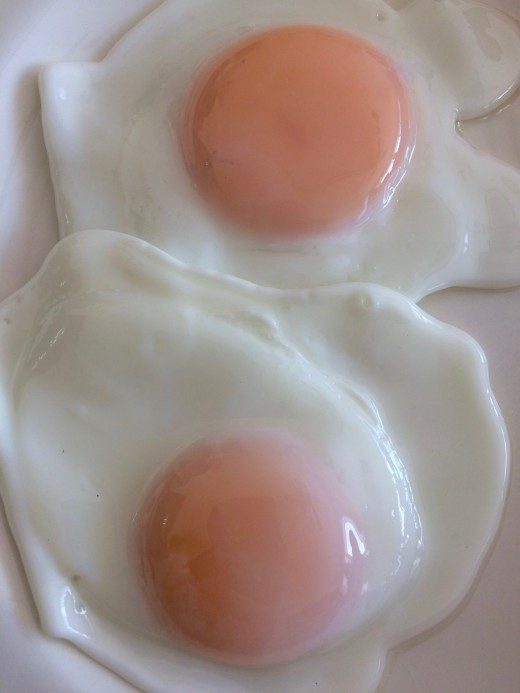fried egg: (19, 237, 504, 687), (29, 1, 519, 296)
